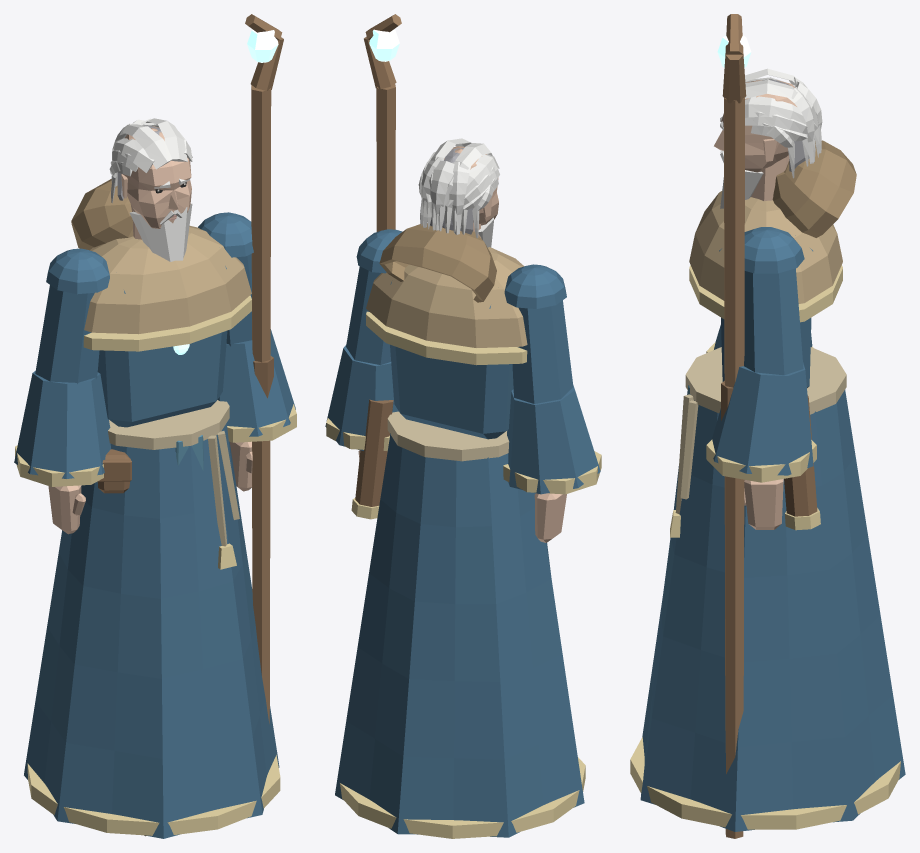
Rendered from elder.glb.
3 views of the same model, side by side, from view 1: azimuth 30°, elevation 25°; view 2: azimuth 150°, elevation 25°; view 3: azimuth 270°, elevation 25° (orthographic). The views are drawn at different scales.
Visible parts, largest first — view 1: RobeSkirt, Mantle, Staff, Chest, ArmR_Sleeve, ArmR_Upper, ArmL_Sleeve, RobeHem, RopeBelt, HeadMesh, MantleTrim, Hood (+18 smaller); view 2: RobeSkirt, Mantle, Chest, ArmR_Sleeve, Hood, ArmR_Upper, RobeHem, ArmL_Sleeve, RopeBelt, Staff, MantleTrim, ScrollCase (+14 smaller); view 3: RobeSkirt, Staff, ArmL_Sleeve, Mantle, ArmL_Upper, Hood, RobeHem, RopeBelt, ArmL_Shoulder, ArmL_Hand, ArmL_Cuff, MantleTrim (+14 smaller).
Part boxes in pixels (bbox=[...]): RobeSkirt: bbox=[24, 423, 279, 838]; Mantle: bbox=[84, 226, 251, 334]; Staff: bbox=[251, 85, 271, 723]; Chest: bbox=[97, 266, 227, 427]; ArmR_Sleeve: bbox=[14, 371, 110, 478]; ArmR_Upper: bbox=[35, 285, 99, 383]; ArmL_Sleeve: bbox=[217, 329, 295, 436]; RobeHem: bbox=[27, 755, 280, 835]; RopeBelt: bbox=[108, 400, 229, 449]; HeadMesh: bbox=[121, 126, 191, 228]; MantleTrim: bbox=[83, 295, 251, 351]; Hood: bbox=[71, 179, 133, 250]; RobeSkirt: bbox=[335, 433, 584, 837]; Mantle: bbox=[366, 247, 527, 347]; Chest: bbox=[390, 281, 513, 439]; ArmR_Sleeve: bbox=[507, 385, 600, 494]; Hood: bbox=[379, 223, 496, 302]; ArmR_Upper: bbox=[512, 300, 573, 403]; RobeHem: bbox=[340, 757, 585, 838]; ArmL_Sleeve: bbox=[325, 345, 398, 450]; RopeBelt: bbox=[387, 411, 509, 461]; Staff: bbox=[376, 84, 395, 231]; MantleTrim: bbox=[366, 311, 527, 365]; ScrollCase: bbox=[355, 399, 393, 506]; RobeSkirt: bbox=[640, 389, 905, 831]; Staff: bbox=[724, 97, 744, 838]; ArmL_Sleeve: bbox=[711, 362, 813, 475]; Mantle: bbox=[689, 191, 842, 303]; ArmL_Upper: bbox=[744, 268, 803, 375]; Hood: bbox=[772, 140, 856, 237]; RobeHem: bbox=[630, 737, 900, 829]; RopeBelt: bbox=[685, 347, 846, 414]; ArmL_Shoulder: bbox=[744, 227, 804, 273]; ArmL_Hand: bbox=[744, 479, 783, 529]; ArmL_Cuff: bbox=[706, 439, 816, 482]; MantleTrim: bbox=[689, 265, 842, 322].
Bounding box in the file's own units: 0.734 × 2.01 × 0.608.
